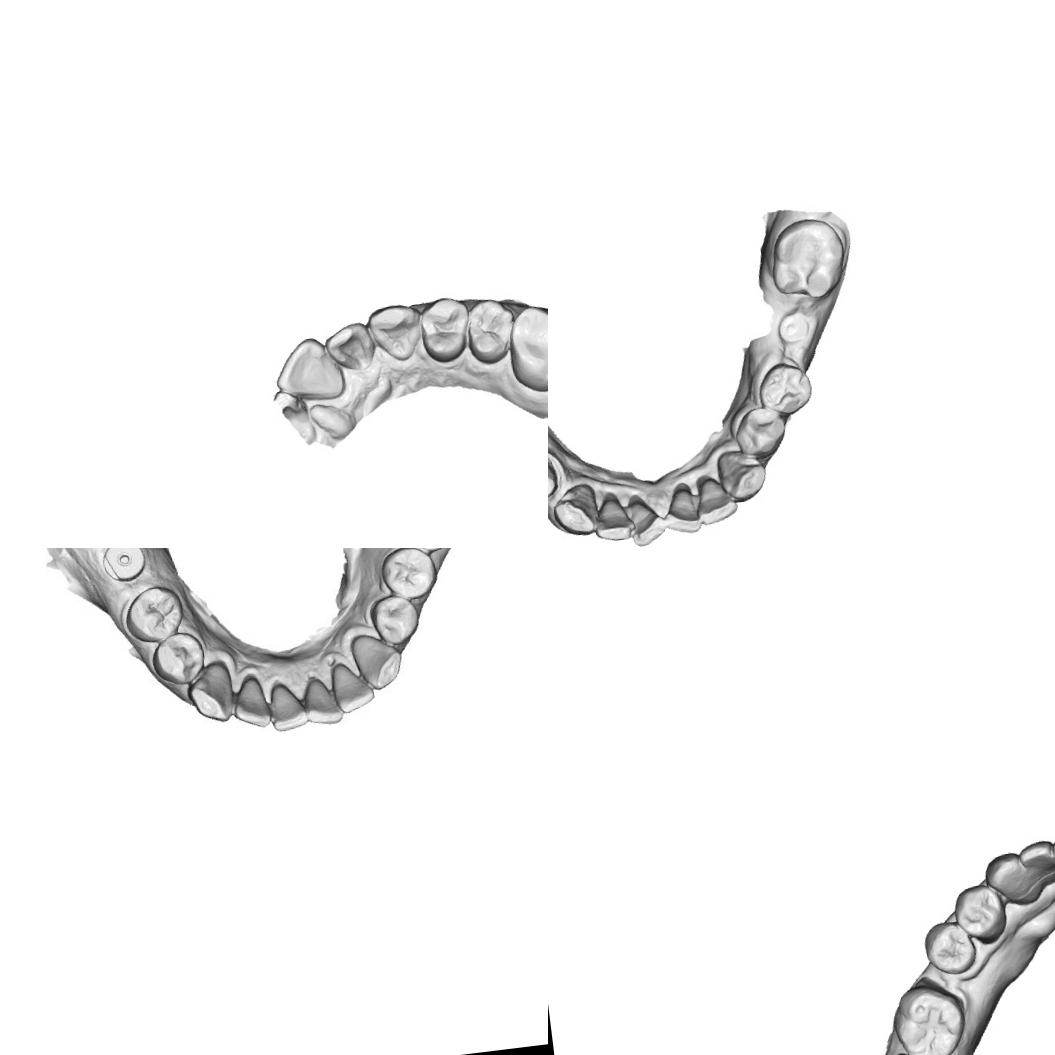canine: (365, 301, 426, 365), (349, 628, 403, 693), (715, 446, 771, 504), (548, 482, 602, 540), (186, 666, 236, 727), (982, 850, 1030, 912)
crown: (548, 452, 564, 503)
implant: (96, 548, 152, 588)
incisor: (270, 332, 348, 407), (322, 320, 378, 376), (299, 670, 342, 729), (693, 474, 739, 527), (660, 486, 708, 536), (230, 670, 272, 727), (330, 658, 374, 710), (592, 495, 637, 544), (626, 497, 669, 548), (1014, 837, 1055, 890), (266, 680, 305, 732)
molar: (766, 217, 854, 305), (887, 980, 972, 1055), (503, 299, 548, 397)
premolar: (415, 293, 475, 366), (122, 580, 184, 646), (950, 881, 1011, 948), (463, 295, 520, 366), (754, 358, 814, 419), (920, 918, 980, 978), (731, 404, 791, 461), (377, 548, 438, 602), (150, 632, 210, 684), (369, 592, 424, 648)
